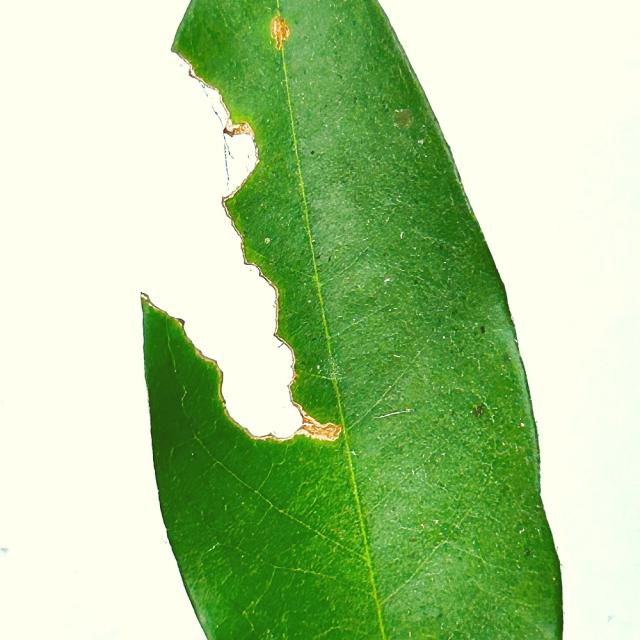Deficiency Leaf: (141, 52, 303, 439)
Lychee: (142, 0, 562, 639)
